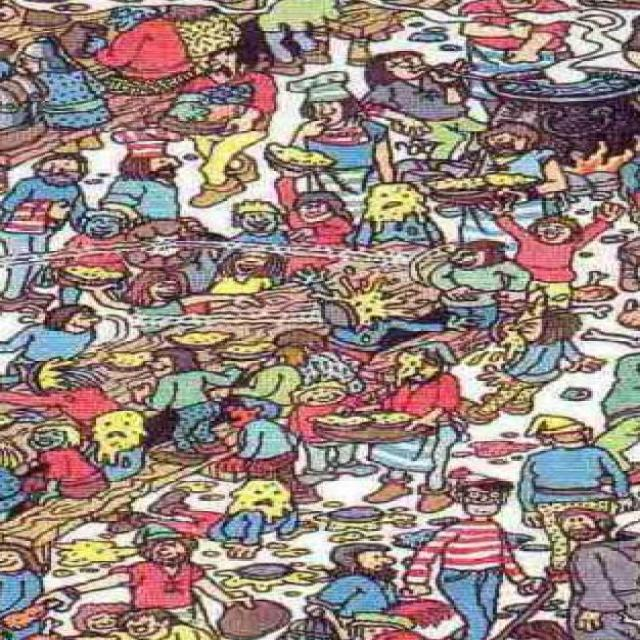waldo: (450, 466, 515, 516)
